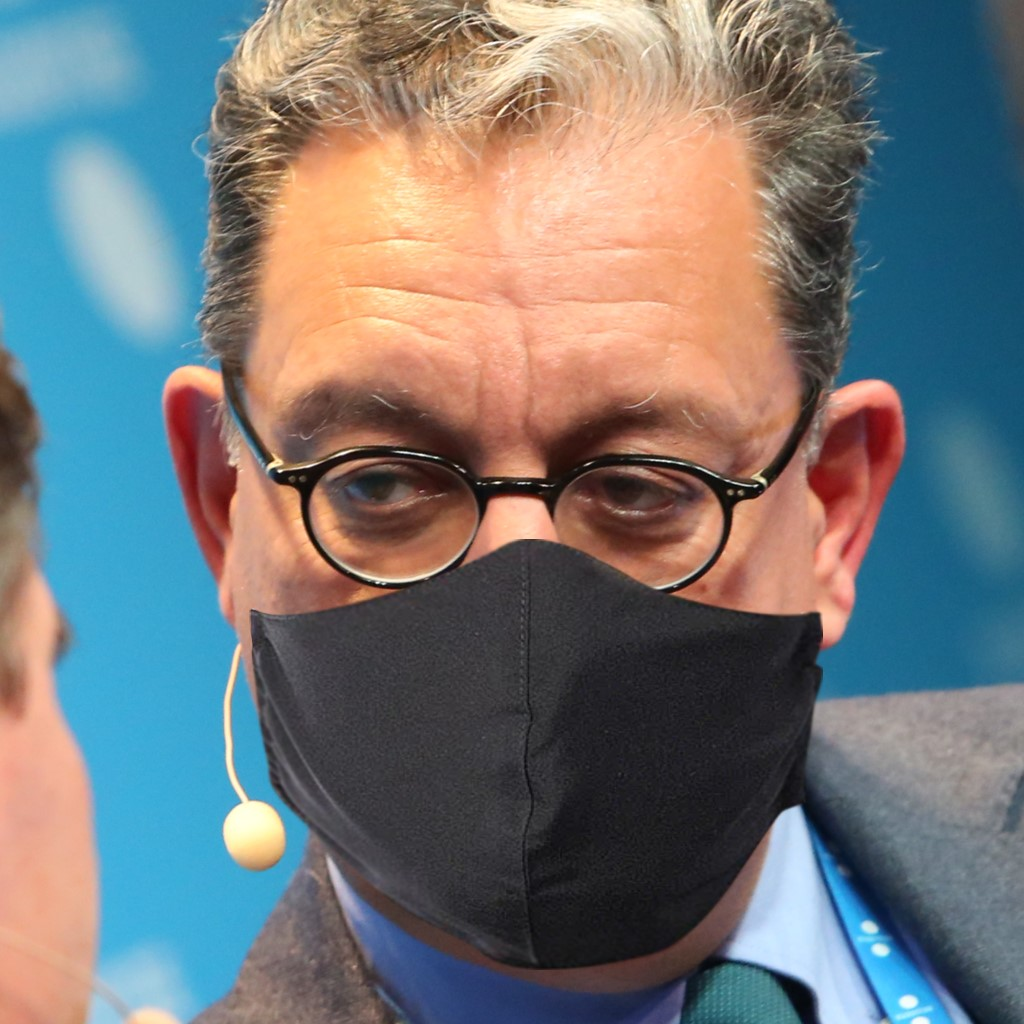con_mascara: (210, 52, 846, 928)
